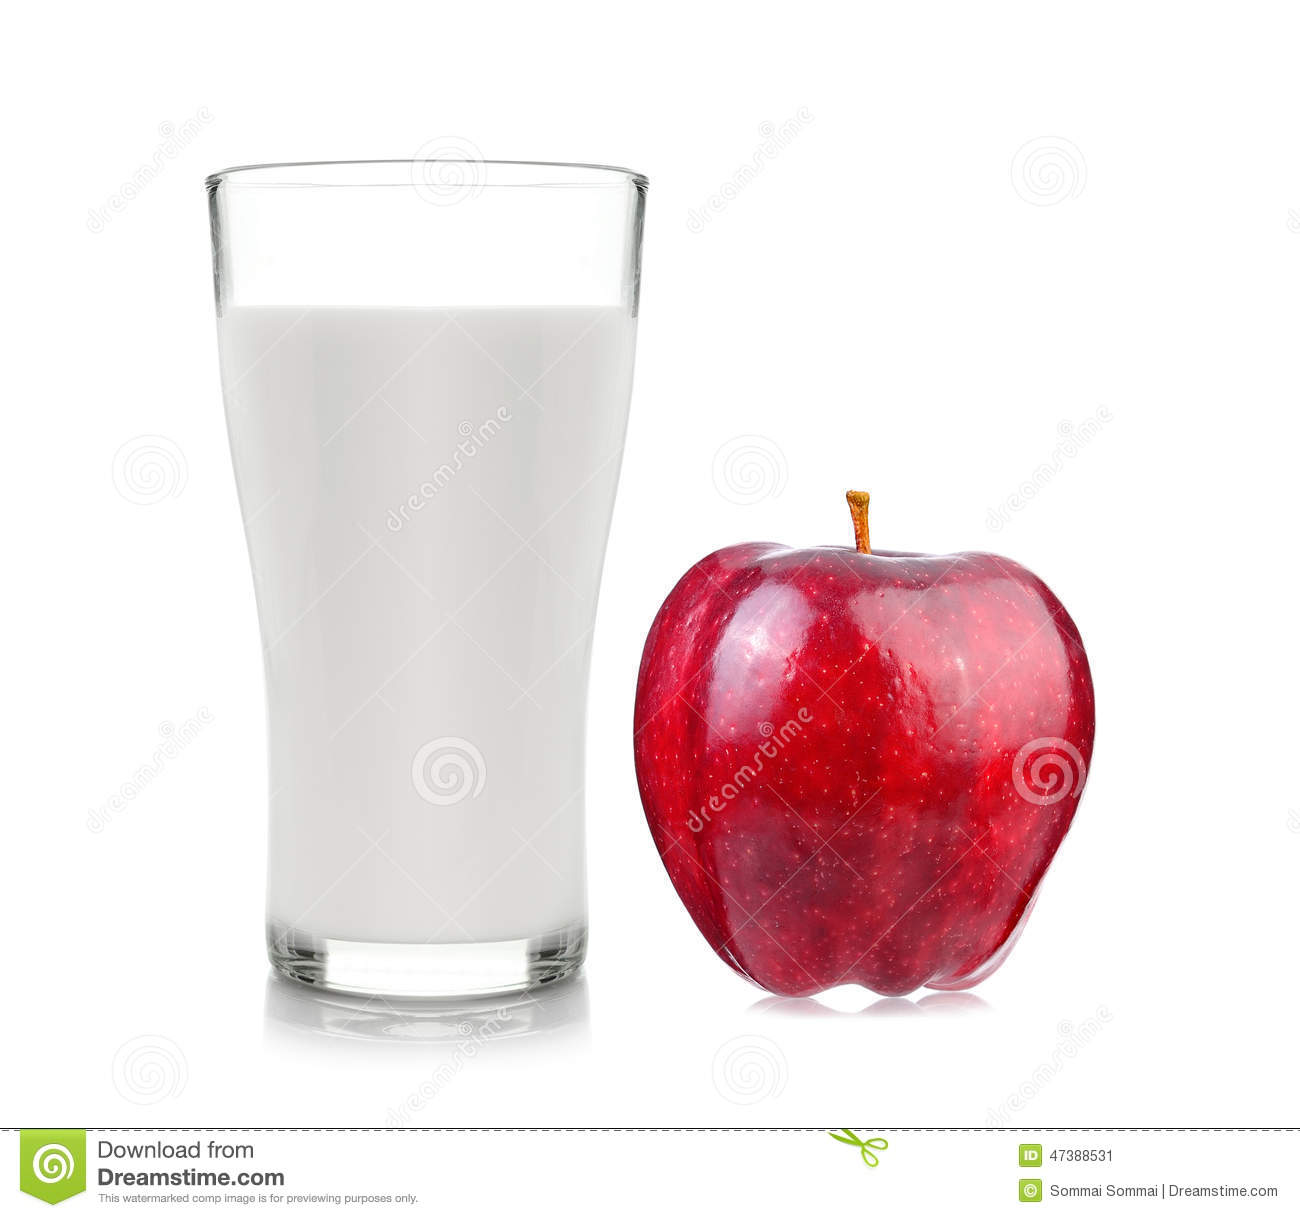glass of milk: (200, 171, 597, 1026)
